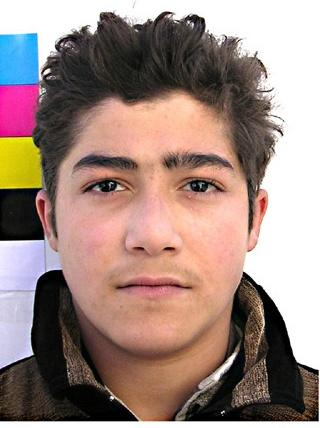No Mask: (21, 48, 287, 389)
